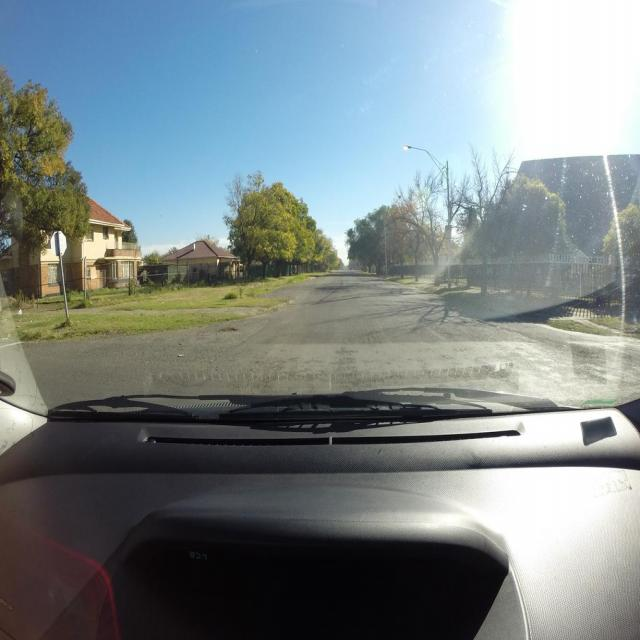Pothole: (219, 328, 238, 332)
